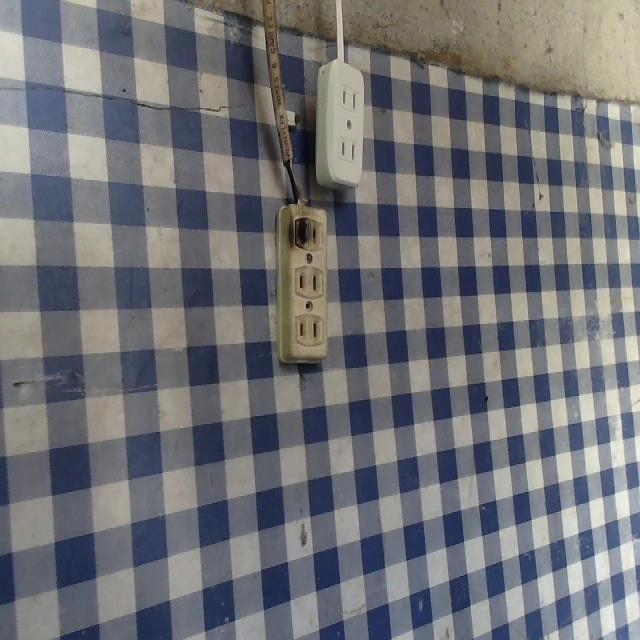-: (289, 208, 311, 256)
